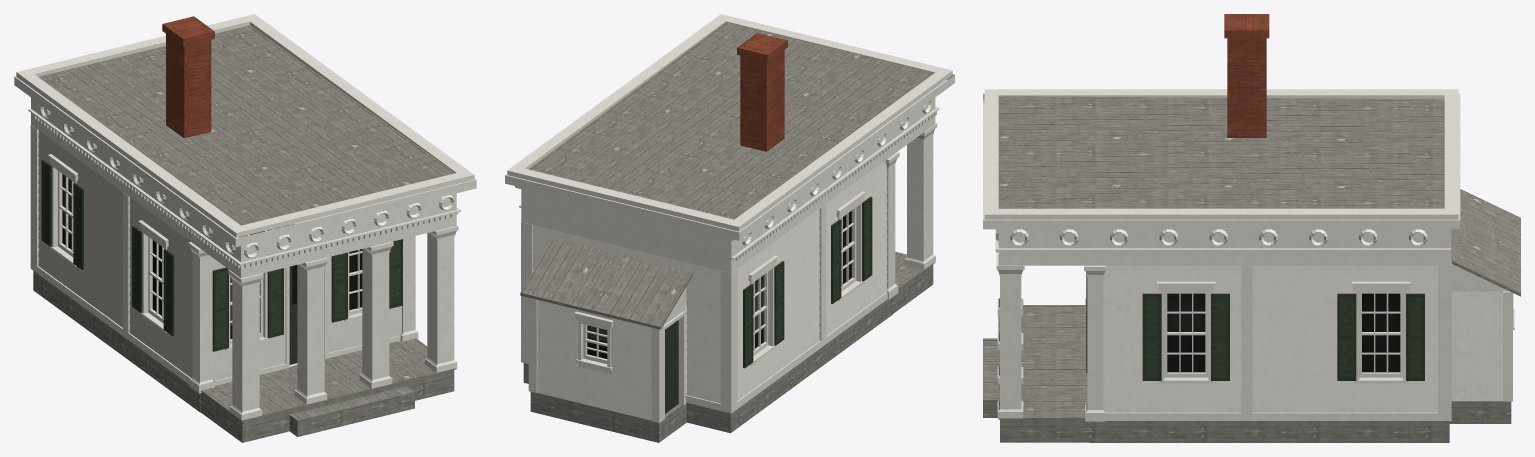
File: wurts-law-office.glb
3 renders of one model, left to right at view 1: azimuth 30°, elevation 25°; view 2: azimuth 150°, elevation 25°; view 3: azimuth 270°, elevation 25°, orthographic. The views are drawn at different scales.
Visible parts, largest first — view 1: WurtsLawOffice; view 2: WurtsLawOffice; view 3: WurtsLawOffice.
Boxes of the visible parts, x1=… form: WurtsLawOffice: x1=14, y1=14, x2=476, y2=442; WurtsLawOffice: x1=505, y1=14, x2=954, y2=442; WurtsLawOffice: x1=983, y1=14, x2=1520, y2=442.
Size of the model in its own units: 5.34 by 6.7 by 9.58.
Materials: 7 (5 with a texture image).
